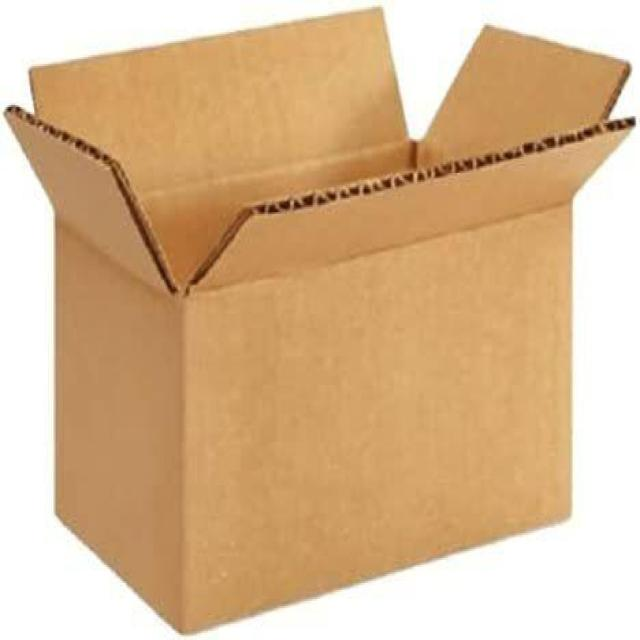cardboard: (2, 9, 632, 633)
